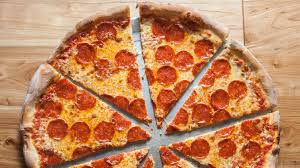pizza: (24, 7, 278, 168)
